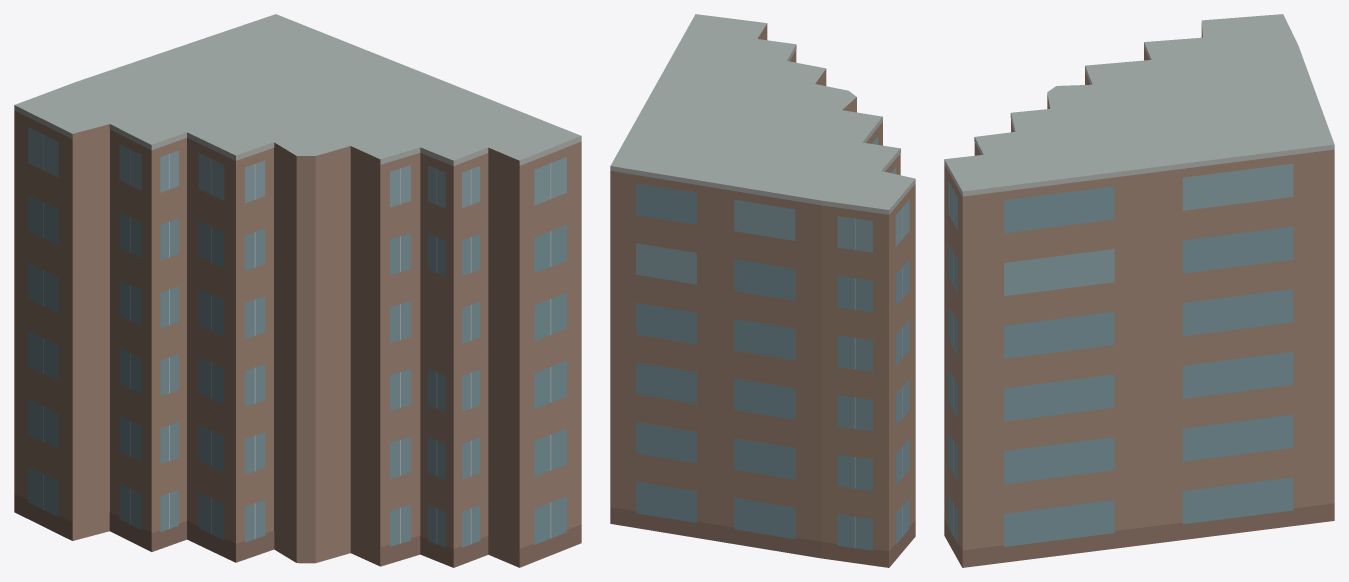
File: survey-upis-33023160.glb
3 views of the same model, side by side, from view 1: azimuth 30°, elevation 25°; view 2: azimuth 150°, elevation 25°; view 3: azimuth 270°, elevation 25° (orthographic). The views are drawn at different scales.
Visible parts, largest first — view 1: survey-upis-33023160.tmp; view 2: survey-upis-33023160.tmp; view 3: survey-upis-33023160.tmp.
Part boxes in pixels (x1,y1,x2,y2): survey-upis-33023160.tmp: [14, 14, 581, 567]; survey-upis-33023160.tmp: [610, 14, 915, 567]; survey-upis-33023160.tmp: [944, 14, 1334, 567].
Size of the model in its own units: 18.54 by 18.3 by 17.21.
